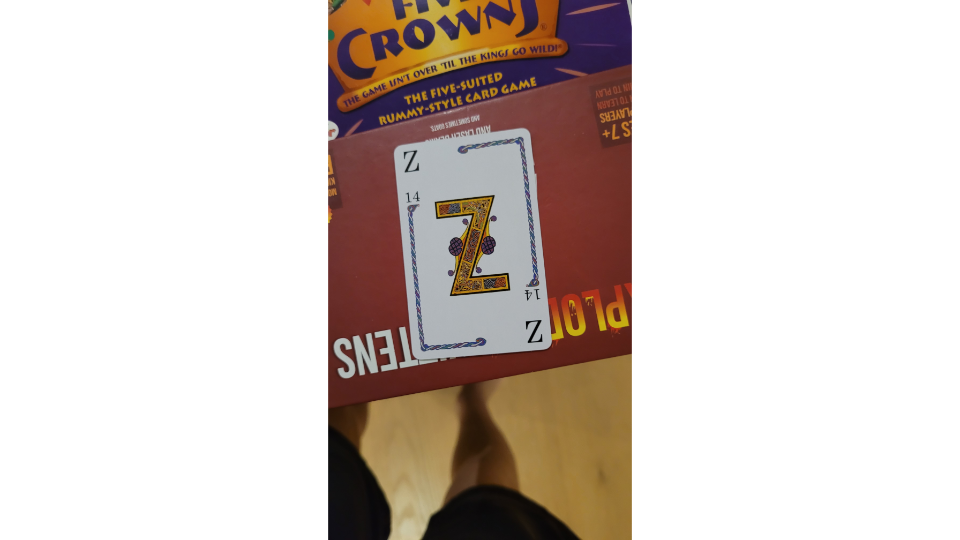Z: (391, 126, 557, 362)
